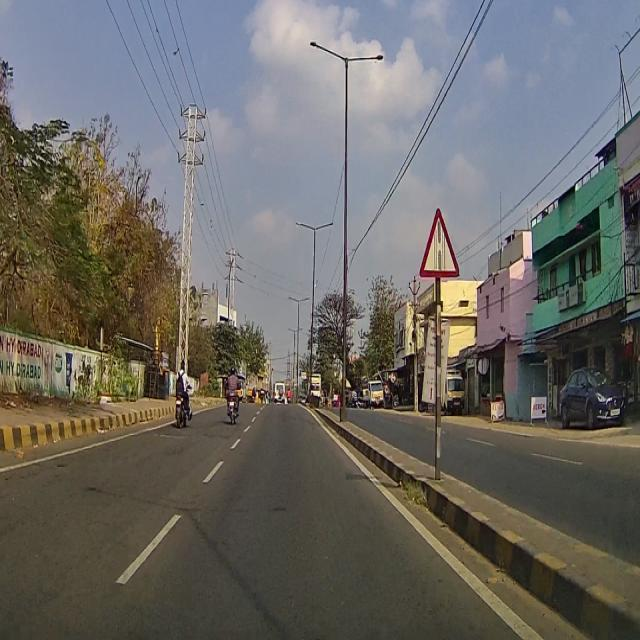gap-in-median: (421, 204, 462, 275)
